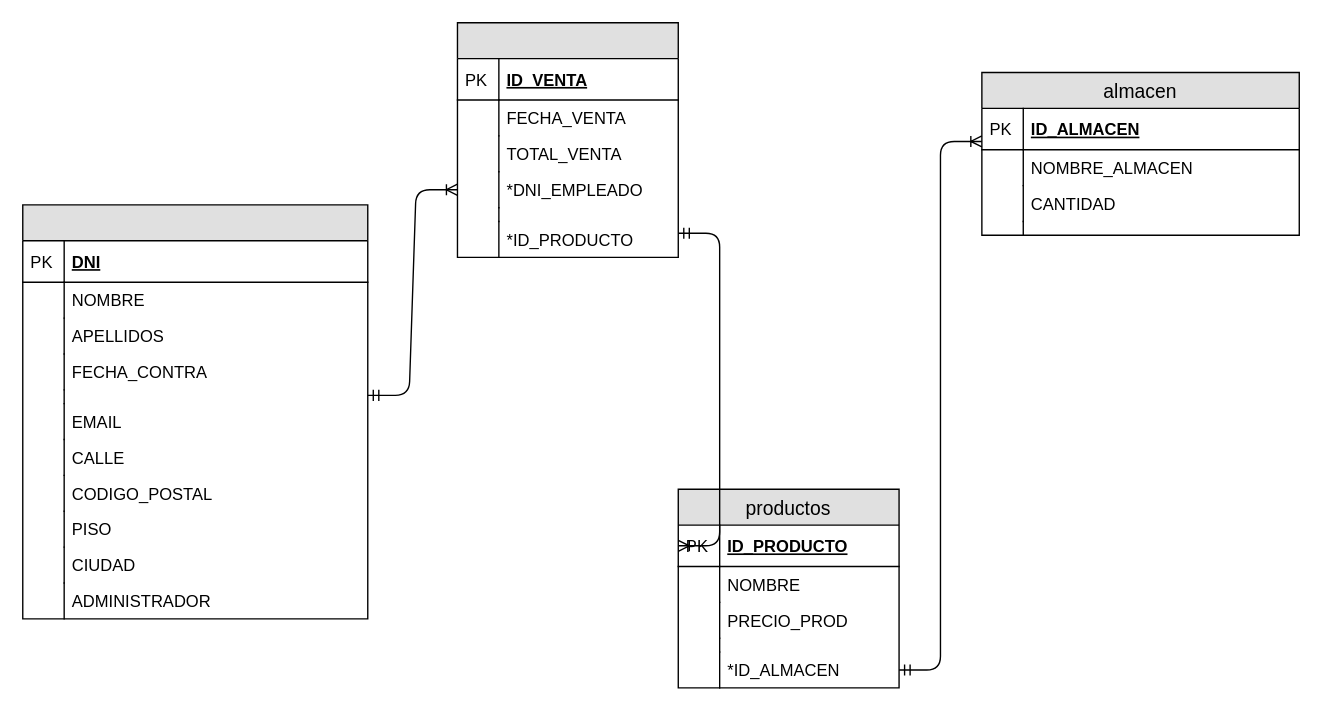
Image size: 1322x711. Some labels were removed from this diagram. The box of each missing label's shape, as (x1, y1, x2, y2) in pixels:
empleados: (21, 204, 368, 619)
ventas: (456, 21, 678, 257)
